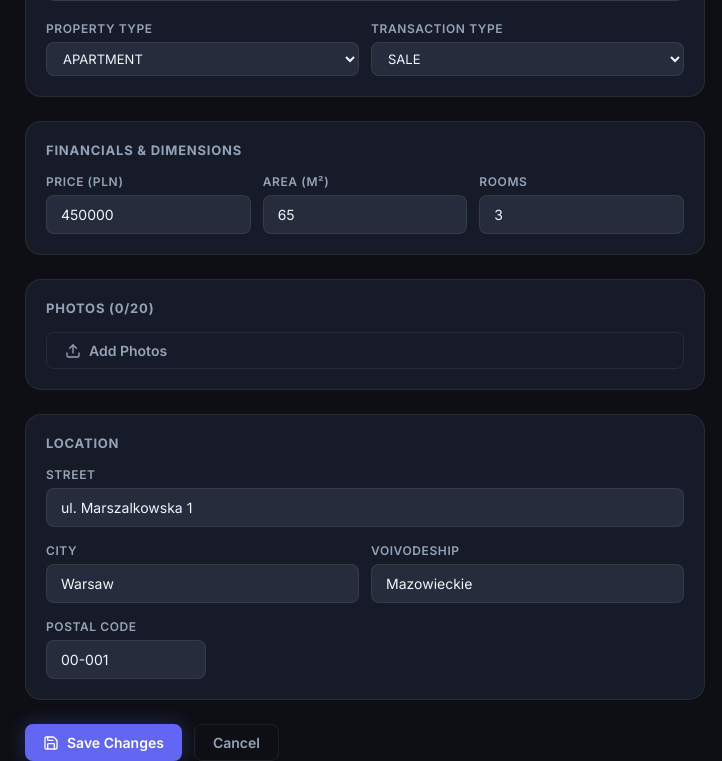
Test case: EditListingPage › should show error when submitting with no photos
(page scrolled)
Click the button "Save Changes".
click(103, 742)  # box [25, 724, 182, 760]
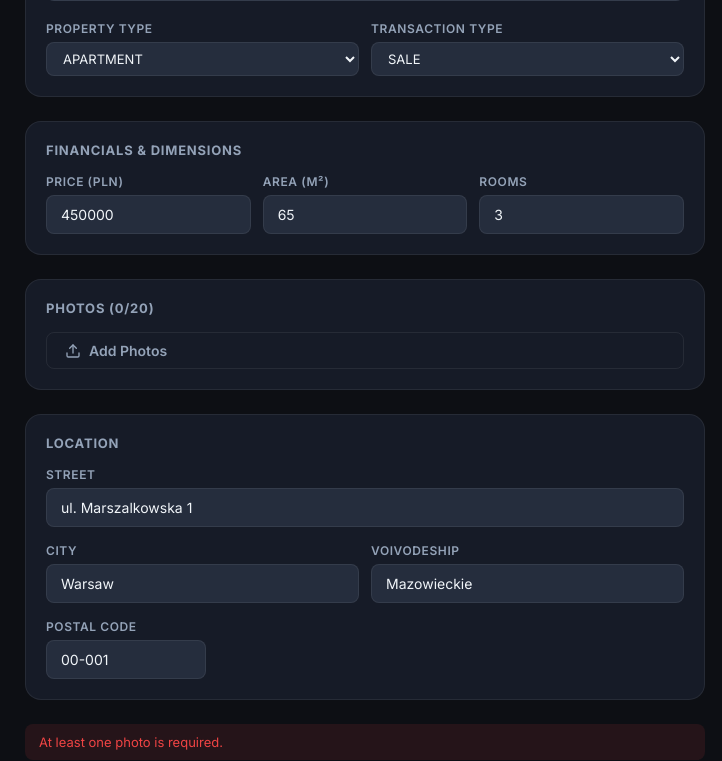
Expected: the text "At least one photo is required." is shown, [25, 724, 705, 760]
